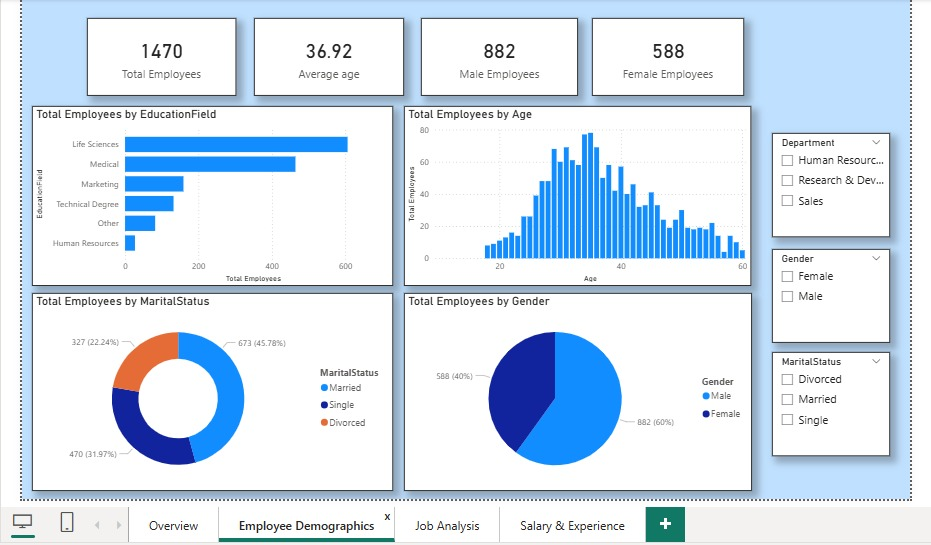

Layout of this report page (visuals, bound fields, positions):
{"tool":"powerbi","page":{"name":"Employee Demographics","canvas":[1280,720],"ordinal":1},"visuals":[{"type":"clusteredBarChart","fields":{"Category":["HR Data.EducationField"],"Y":["Dax Measures.Total Employees"]},"box":[14.2,154.5,520.2,259.4],"z":0},{"type":"donutChart","fields":{"Category":["HR Data.MaritalStatus"],"Y":["Dax Measures.Total Employees"]},"box":[14.4,423.4,519.8,285.1],"z":1000},{"type":"clusteredColumnChart","fields":{"Category":["HR Data.Age"],"Y":["Dax Measures.Total Employees"]},"box":[549.9,154.5,500.3,259.4],"z":2000},{"type":"pieChart","fields":{"Category":["HR Data.Gender"],"Y":["Dax Measures.Total Employees"]},"box":[550.1,423.4,501.1,285.1],"z":3000},{"type":"card","fields":{"Values":["Dax Measures.Total Employees"]},"box":[93.6,27.4,214.6,112.3],"z":4000},{"type":"card","fields":{"Values":["Dax Measures.Average age"]},"box":[334.1,27.4,216,112.3],"z":5000},{"type":"card","fields":{"Values":["Dax Measures.Male Employees"]},"box":[574.6,27.4,226.1,112.3],"z":6000},{"type":"card","fields":{"Values":["Dax Measures.Female Employees"]},"box":[820.8,27.4,218.9,112.3],"z":7000},{"type":"slicer","fields":{"Values":["HR Data.Department"]},"box":[1080,192.5,170.2,149.5],"z":8000},{"type":"slicer","fields":{"Values":["HR Data.Gender"]},"box":[1080,359.5,170.2,135.2],"z":9000},{"type":"slicer","fields":{"Values":["HR Data.MaritalStatus"]},"box":[1080,509,170.2,149.5],"z":10000}]}

Visuals, with their boxes in screenshot pixels (x1, y1, x2, y2):
clusteredBarChart - HR Data.EducationField x Dax Measures.Total Employees: x1=32, y1=104, x2=392, y2=284
donutChart - HR Data.MaritalStatus x Dax Measures.Total Employees: x1=32, y1=291, x2=391, y2=488
clusteredColumnChart - HR Data.Age x Dax Measures.Total Employees: x1=402, y1=104, x2=748, y2=284
pieChart - HR Data.Gender x Dax Measures.Total Employees: x1=402, y1=291, x2=749, y2=488
card - Dax Measures.Total Employees: x1=87, y1=17, x2=235, y2=94
card - Dax Measures.Average age: x1=253, y1=17, x2=402, y2=94
card - Dax Measures.Male Employees: x1=419, y1=17, x2=576, y2=94
card - Dax Measures.Female Employees: x1=590, y1=17, x2=741, y2=94
slicer - HR Data.Department: x1=769, y1=131, x2=887, y2=234
slicer - HR Data.Gender: x1=769, y1=246, x2=887, y2=340
slicer - HR Data.MaritalStatus: x1=769, y1=350, x2=887, y2=453
